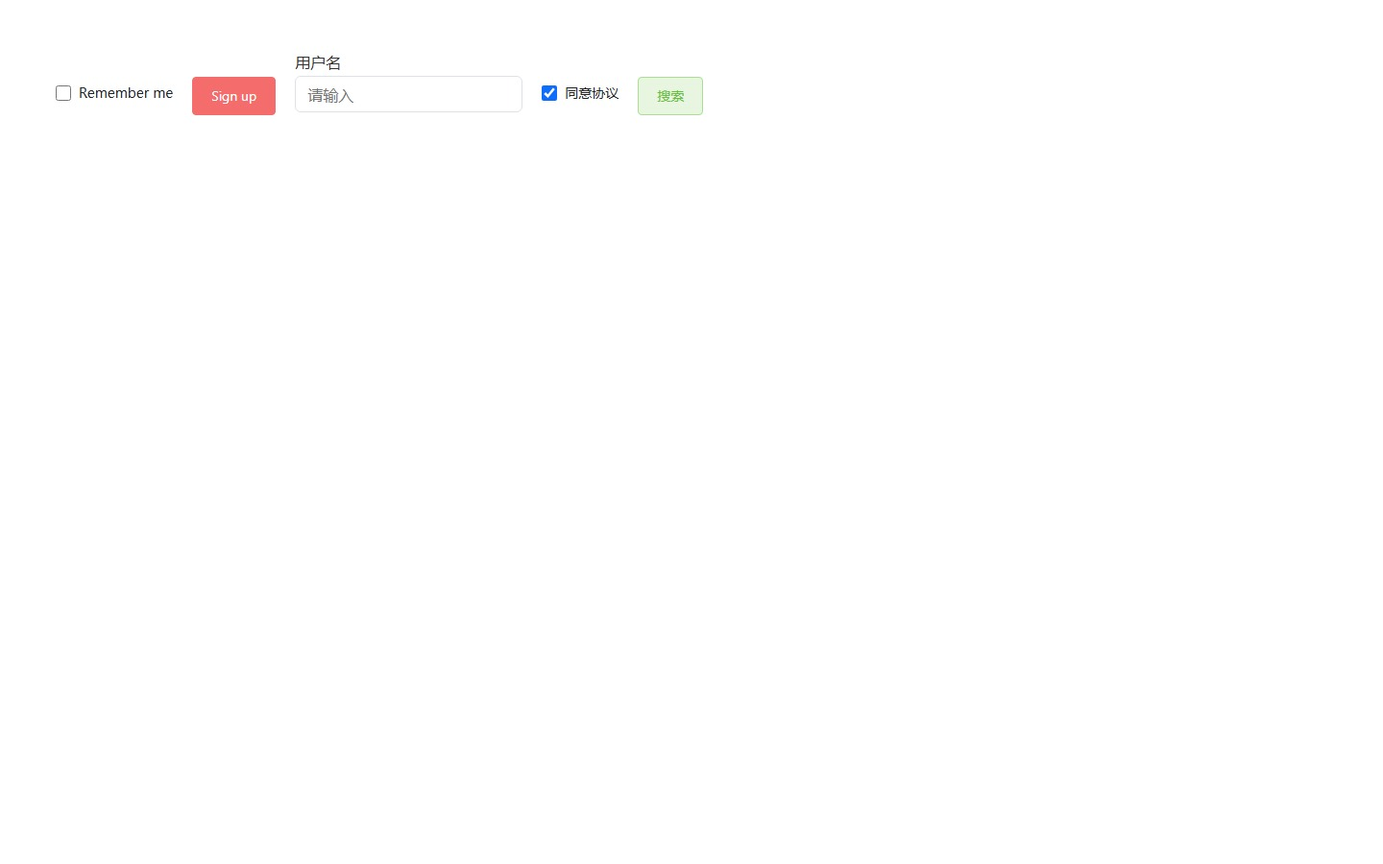button: (192, 76, 276, 115), (638, 76, 703, 115)
checkbox: (56, 85, 71, 100), (542, 85, 557, 100)
icon: (79, 84, 173, 102), (565, 84, 619, 102)
input: (295, 76, 523, 112)
radio: (56, 84, 173, 102), (542, 84, 619, 102)
